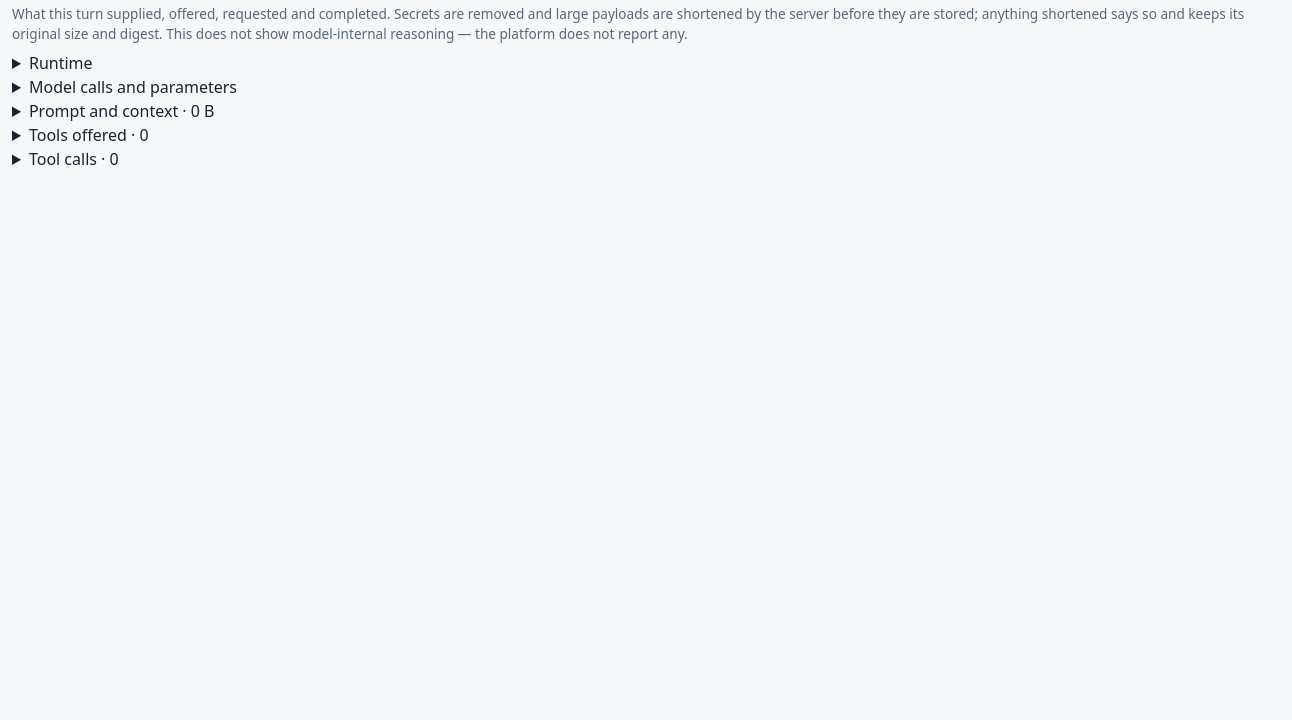
Scenario: keeps synthetic-exclusive-reasoning native evidence separate from interpreted costs
This screenshot has width=1292, height=720.
Click the heading "Model calls and parameters" at {"x": 133, "y": 87}, box [29,76,237,98]
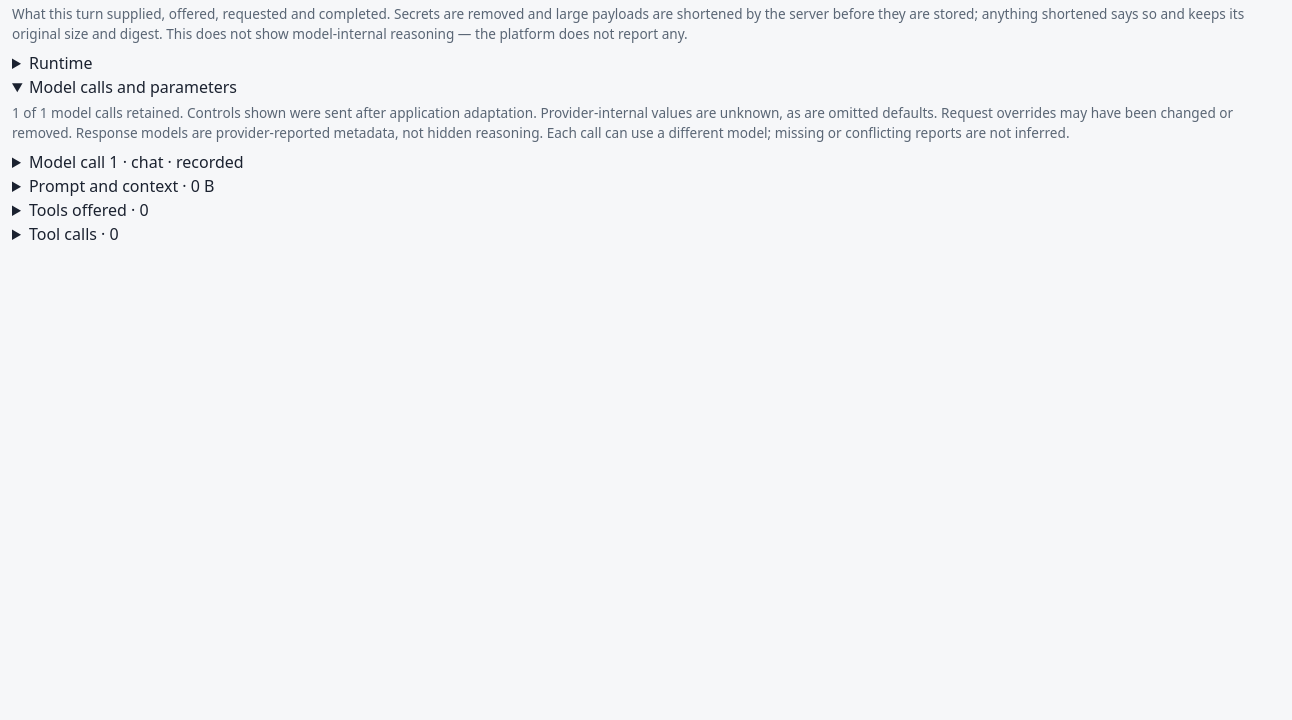
Click the heading "Model call 1 · chat · recorded" at {"x": 136, "y": 162}, box [29,151,244,173]
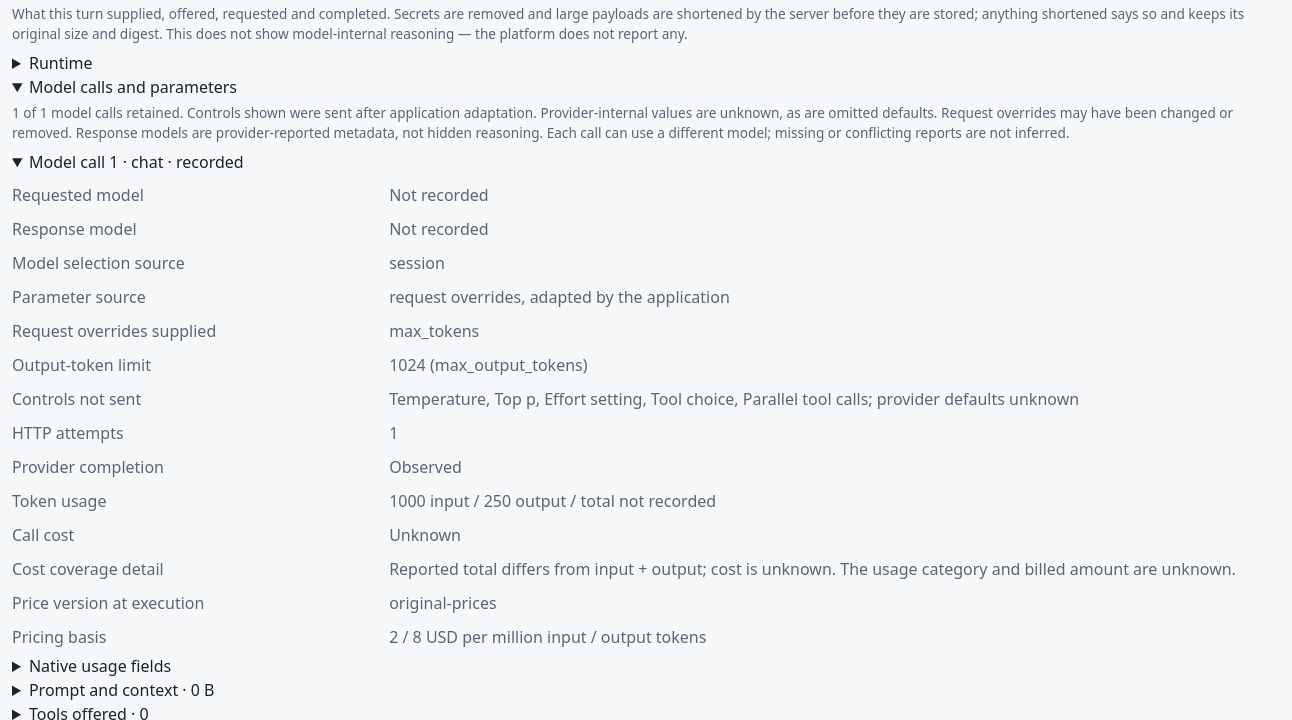
Click the heading "Native usage fields" at {"x": 100, "y": 666}, box [29,655,171,677]
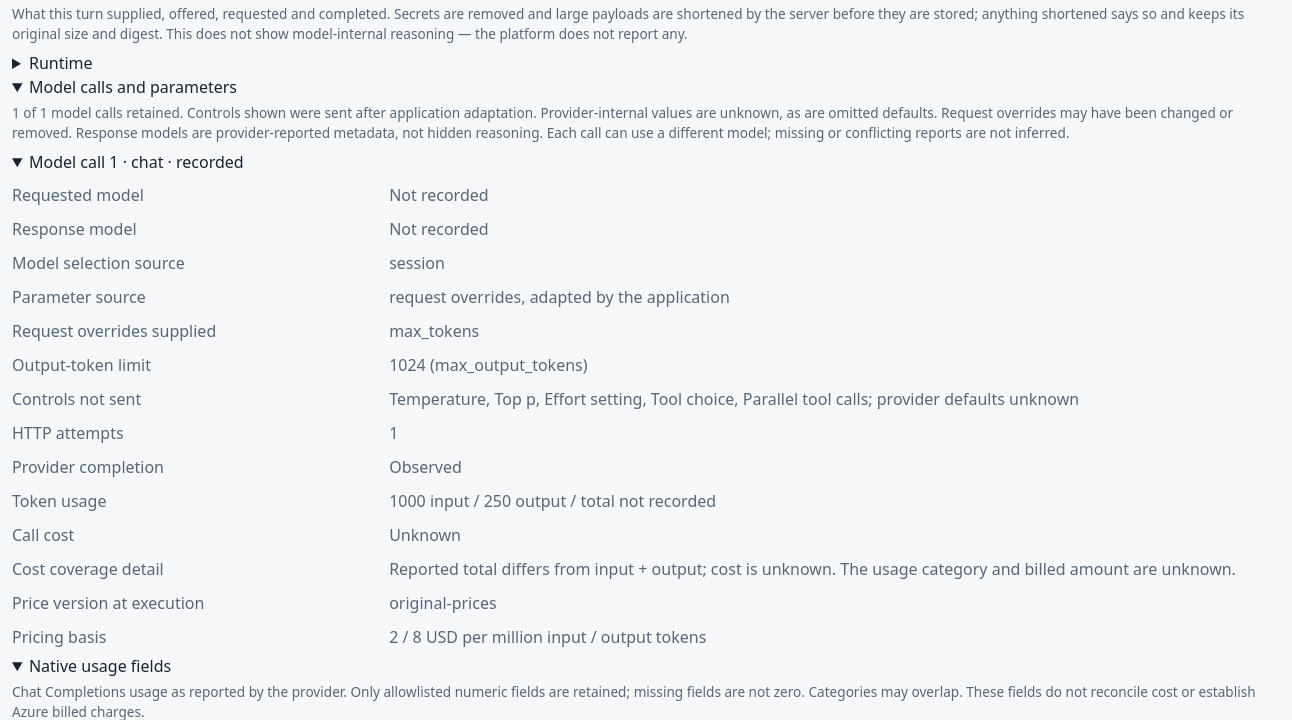
Check: the text "do not reconcile cost or establish Azure billed charges" is shown, box [12,682,1256,719]
